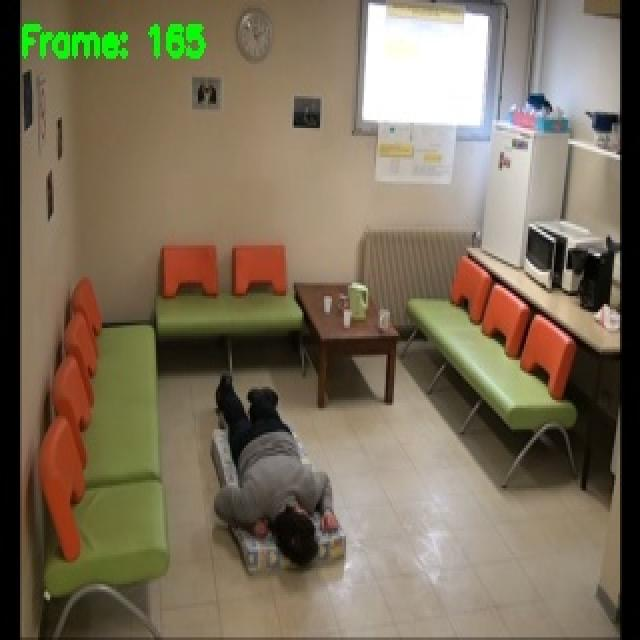Fall-Detected: (207, 370, 338, 566)
